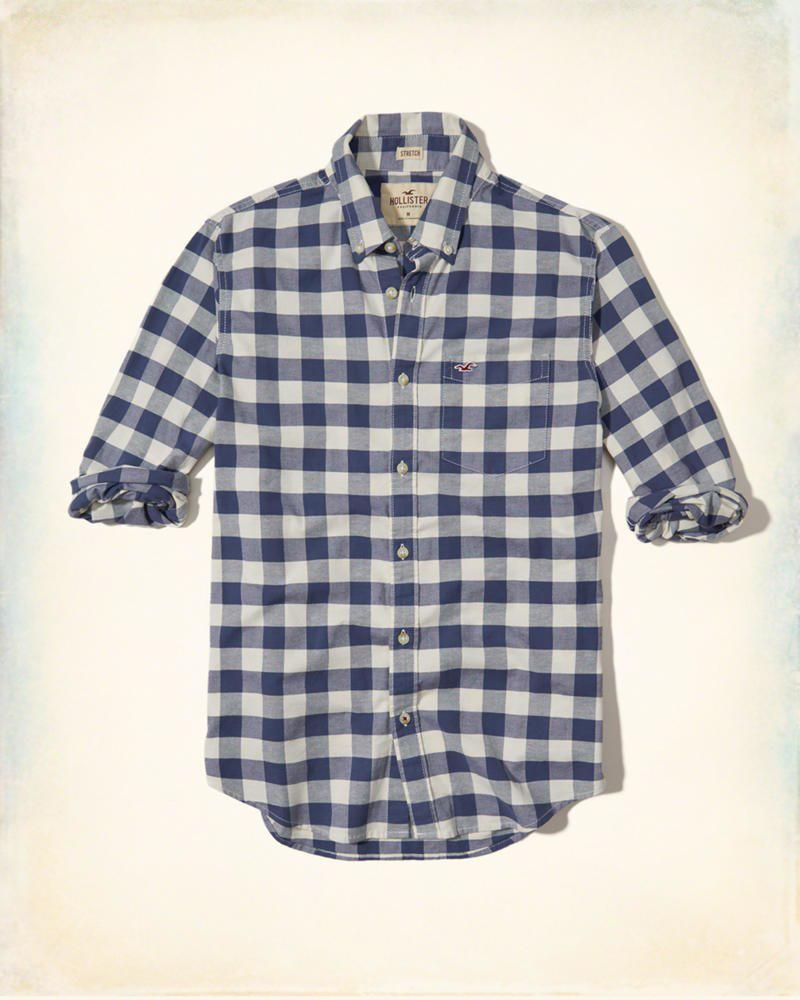teeshirt: (59, 106, 752, 863)
